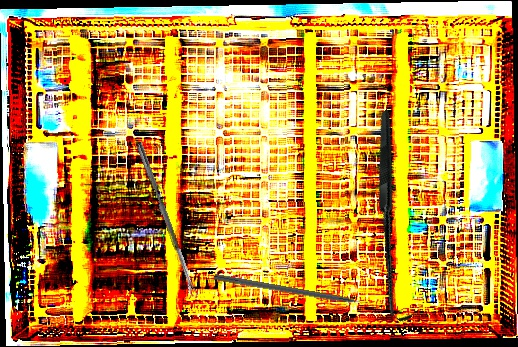Hook Surgical: (288, 108, 503, 326), (213, 273, 376, 311)
Surgical Spoon: (134, 141, 198, 298)
